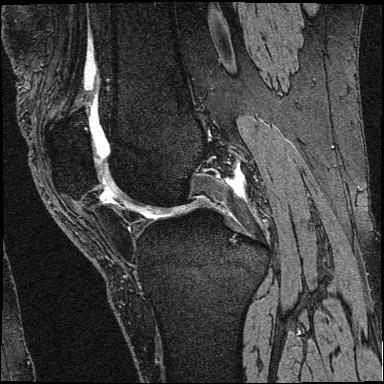SagKneeJointArea: (43, 105, 271, 293)
